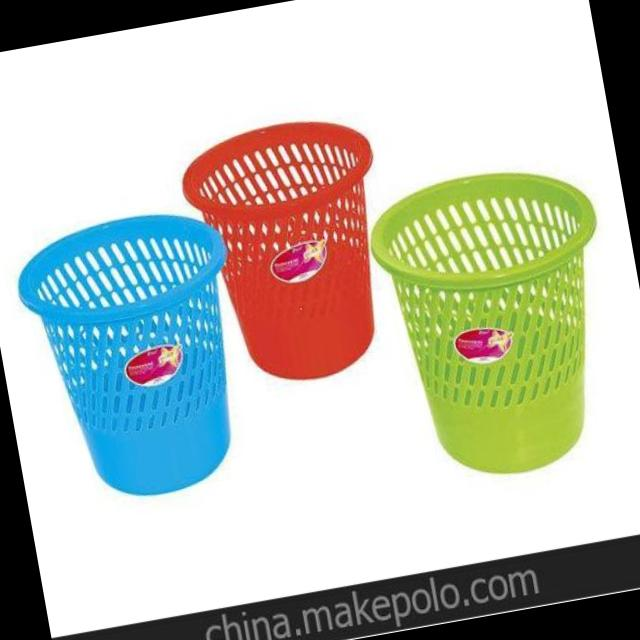dustbin: (360, 157, 640, 496), (0, 196, 277, 526), (174, 100, 410, 397)
